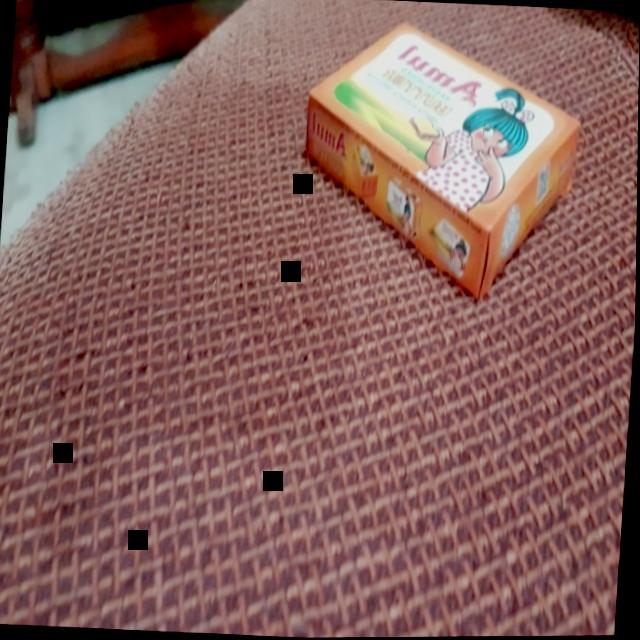butter: (290, 12, 591, 306)
